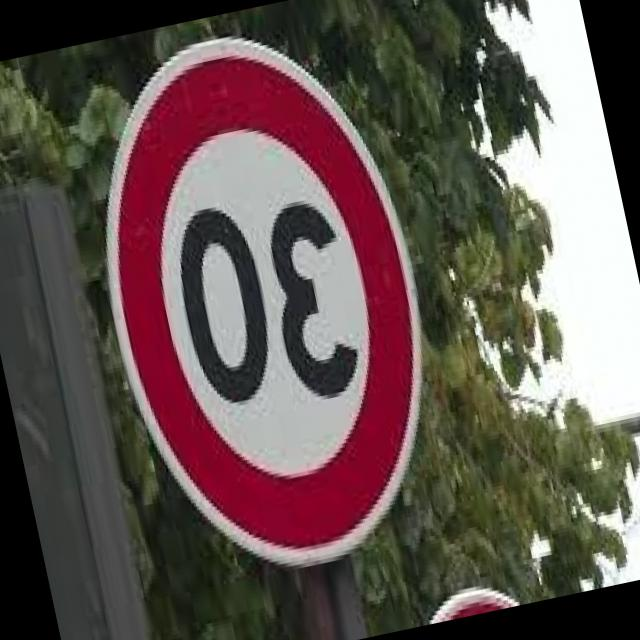speed_limit_30: (46, 2, 472, 608)
